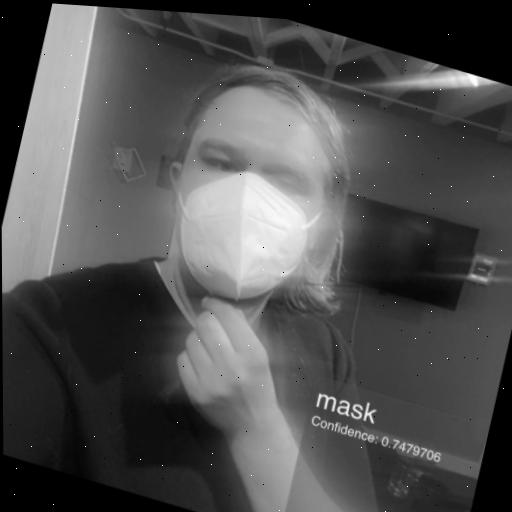mask: (135, 39, 383, 340)
